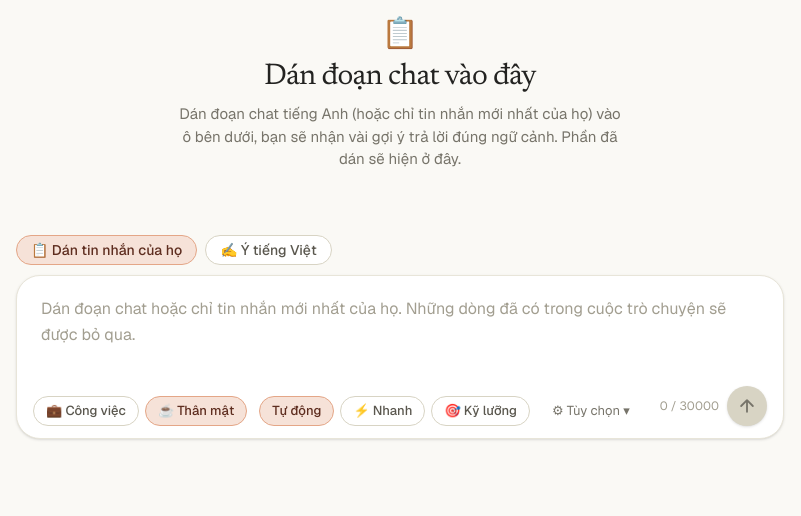
Scenario: ReplyComposer inside a thread › switches to a typed Vietnamese idea
Click the button "✍️ Ý tiếng Việt". click: (268, 250)
box: [205,234,332,264]
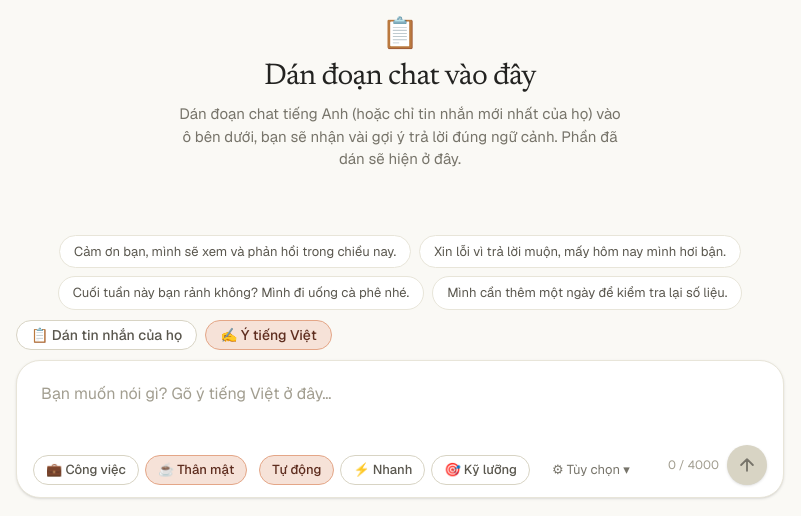
Expected: the button named "Viết bản nháp" is shown, [727,444,767,484]
Expected: the text "0 / 4000" is shown, [668,456,719,472]
